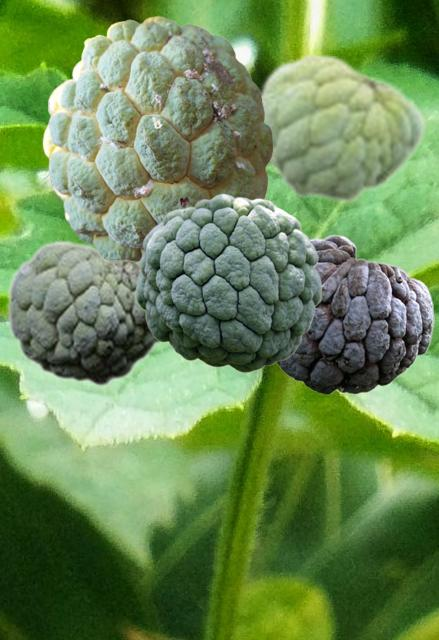atis: (42, 16, 272, 264), (135, 193, 321, 372), (256, 51, 424, 204), (276, 234, 433, 393), (6, 239, 167, 386)
